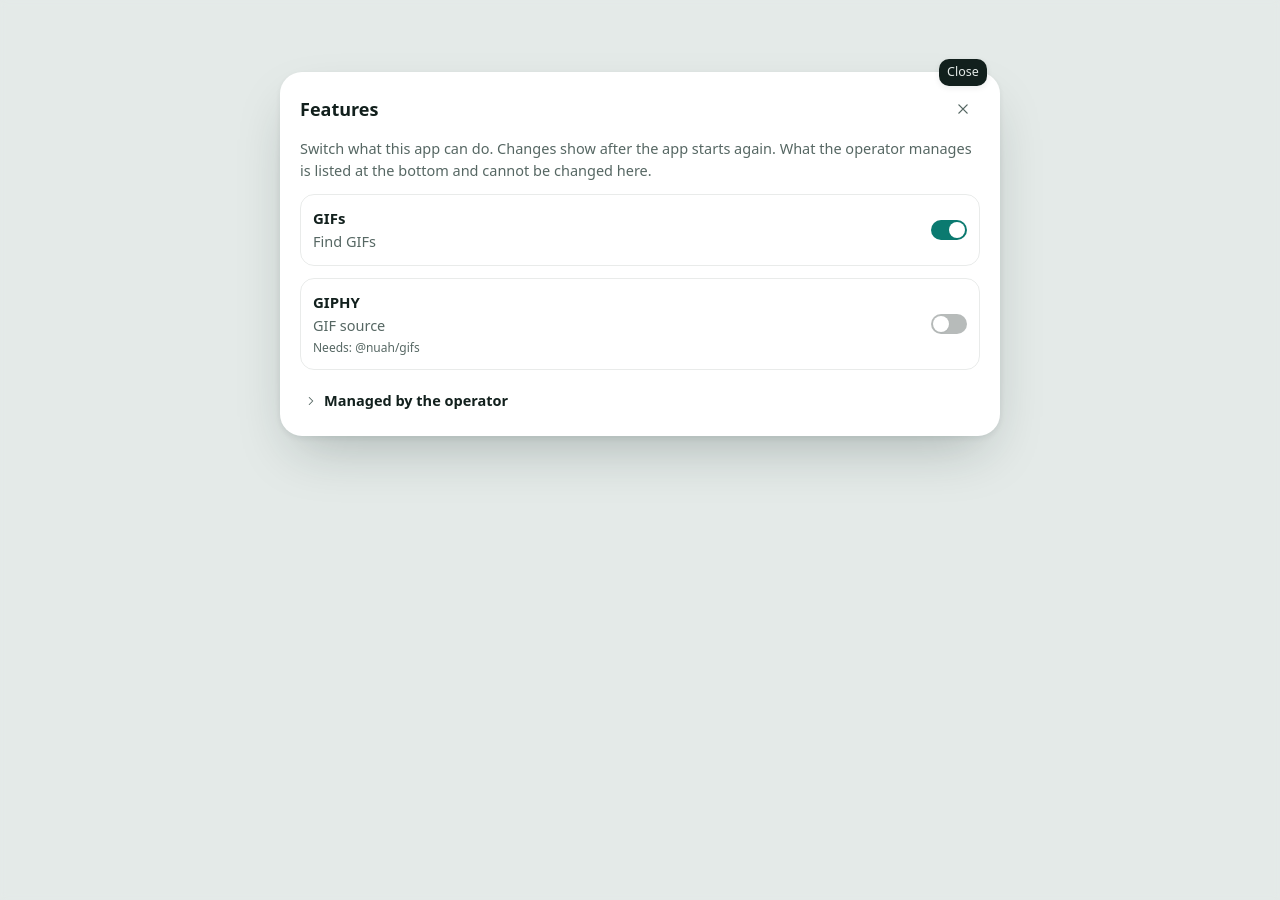
Test: the Features page › when other features need one, the Core's message is shown and only a confirmation switches them all off
Later steps or results of the test are not shown.
Click the switch named "GIFs" at coordinates (949, 230), box [931,220,967,240]
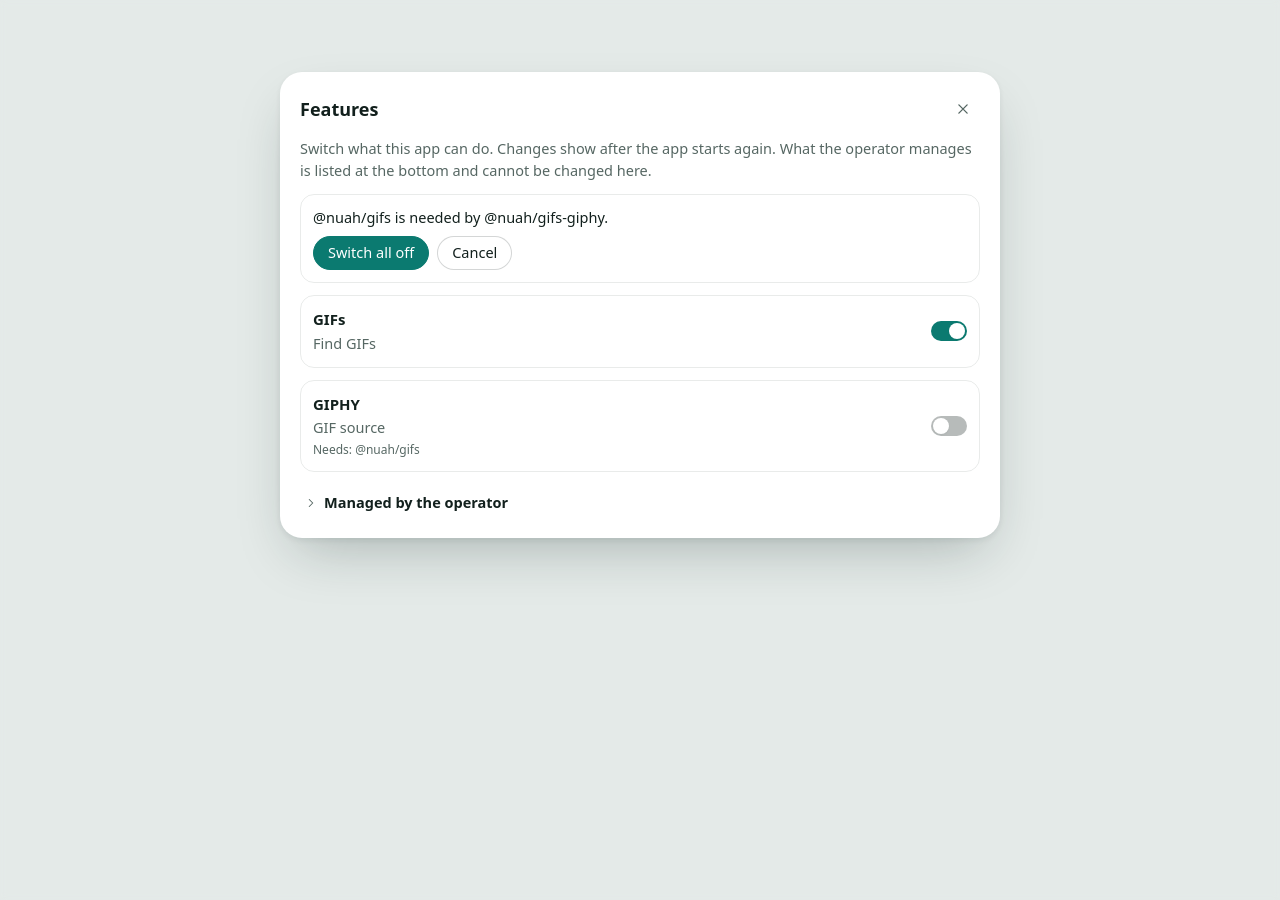
Now the text "@nuah/gifs is needed by @nuah/gifs-giphy." is shown, box [313,206,608,226]
